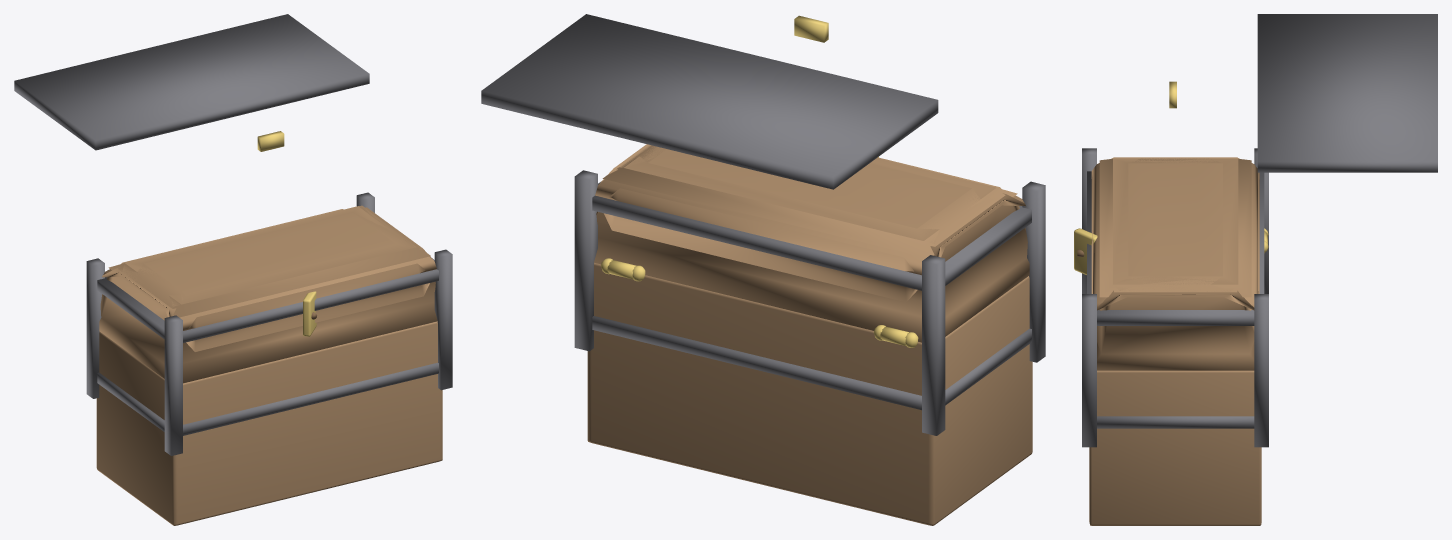
Rendered from stylized_treasure_chest.glb.
3 views of the same model, side by side, from view 1: azimuth 30°, elevation 25°; view 2: azimuth 150°, elevation 25°; view 3: azimuth 270°, elevation 25° (orthographic). The views are drawn at different scales.
Visible parts, largest first — view 1: Chest_Lid, Chest_Body, Chest_Body_Bracket_FL, Chest_Body_Bracket_FR, Chest_Body_Bracket_BL, Chest_LockPlate; view 2: Chest_Lid, Chest_Body, Chest_Body_Bracket_BL, Chest_Body_Bracket_BR, Chest_Body_Bracket_FL, Chest_Lid_Clasp; view 3: Chest_Lid, Chest_Body, Chest_Body_Bracket_BR, Chest_Body_Bracket_FR, Chest_Body_Bracket_FL, Chest_LockPlate, Chest_Body_Bracket_BL.
Boxes of the visible parts, x1,y1,x2,y2 form: Chest_Lid: (14, 14, 437, 383); Chest_Body: (96, 258, 442, 525); Chest_Body_Bracket_FL: (164, 315, 182, 455); Chest_Body_Bracket_FR: (434, 249, 452, 390); Chest_Body_Bracket_BL: (86, 258, 104, 398); Chest_LockPlate: (303, 291, 316, 336); Chest_Lid: (481, 14, 1029, 342); Chest_Body: (587, 182, 1032, 525); Chest_Body_Bracket_BL: (922, 255, 945, 435); Chest_Body_Bracket_BR: (574, 170, 597, 351); Chest_Body_Bracket_FL: (1022, 181, 1045, 362); Chest_Lid_Clasp: (794, 15, 828, 42); Chest_Lid: (1091, 14, 1437, 370); Chest_Body: (1087, 171, 1264, 525); Chest_Body_Bracket_BR: (1254, 294, 1268, 447); Chest_Body_Bracket_FR: (1082, 294, 1096, 447); Chest_Body_Bracket_FL: (1082, 148, 1096, 293); Chest_LockPlate: (1074, 228, 1097, 274); Chest_Body_Bracket_BL: (1254, 148, 1268, 293).
Bounding box in the file's own units: 1.46 × 1.64 × 1.48.
